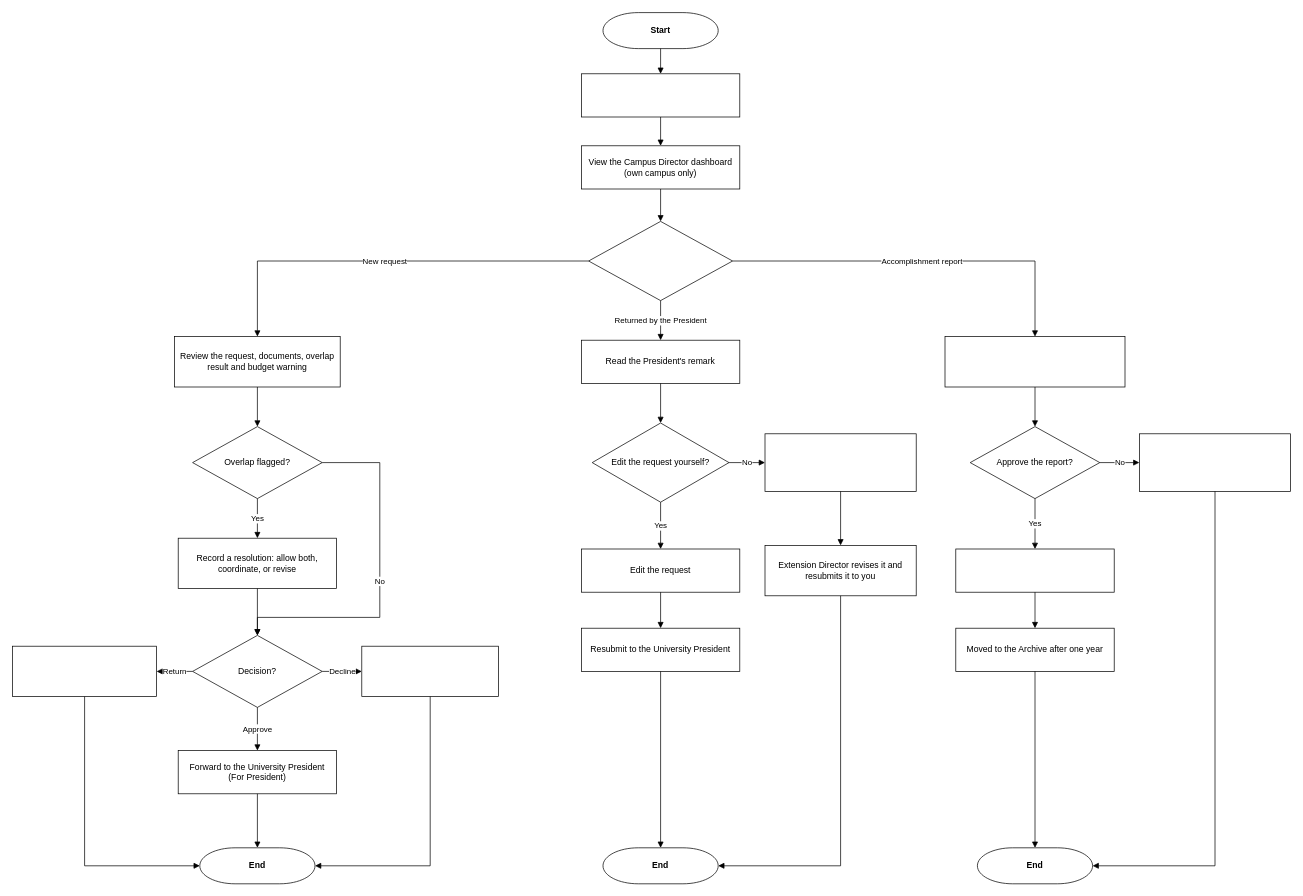
This 1303x896 diagram has some shape labels left out. Each missing label, with the centre of its shape:
"Enter a remark and pass it back to the Extension Director (Returned)" goes at (x=840, y=462).
"Enter a remark and return it to the Extension Director" goes at (x=84, y=671).
"Enter a remark and return the report to the Extension Director for revision" goes at (x=1215, y=462).
"Enter a remark; request closed (Declined)" goes at (x=430, y=671).
"Log in to EXTRACK" goes at (x=660, y=95).
"Review the accomplishment report, photos and attendance" goes at (x=1034, y=361).
"Service marked Completed" goes at (x=1034, y=570).
"What needs action?" goes at (x=660, y=261).
